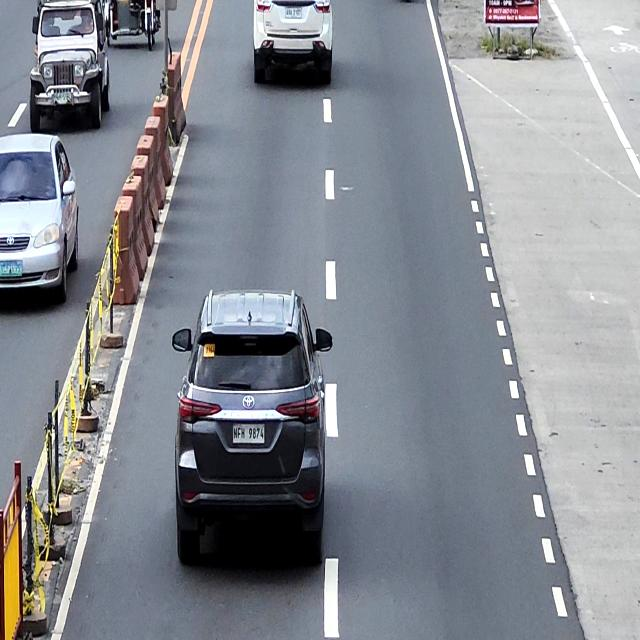Car: (171, 287, 337, 565), (0, 132, 79, 303), (30, 0, 110, 132), (252, 0, 333, 84)
License-Plate: (230, 421, 266, 445), (0, 258, 23, 278), (52, 91, 72, 105), (285, 6, 302, 20)
Tricycle: (104, 0, 162, 52)
